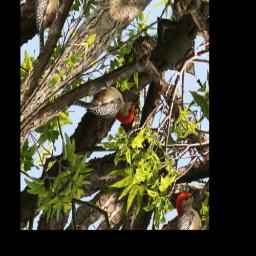Woodpecker: (68, 54, 147, 157)
